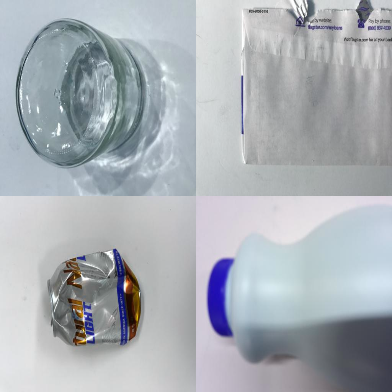glass: (15, 17, 145, 168)
metal: (47, 248, 142, 345)
paper: (240, 1, 391, 168)
plastic: (207, 204, 391, 388)
